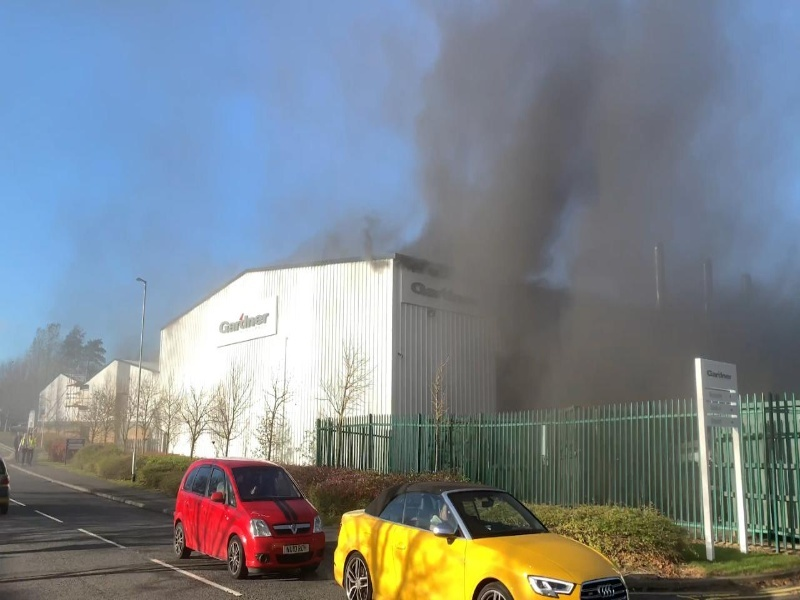smoke: (417, 1, 742, 386)
